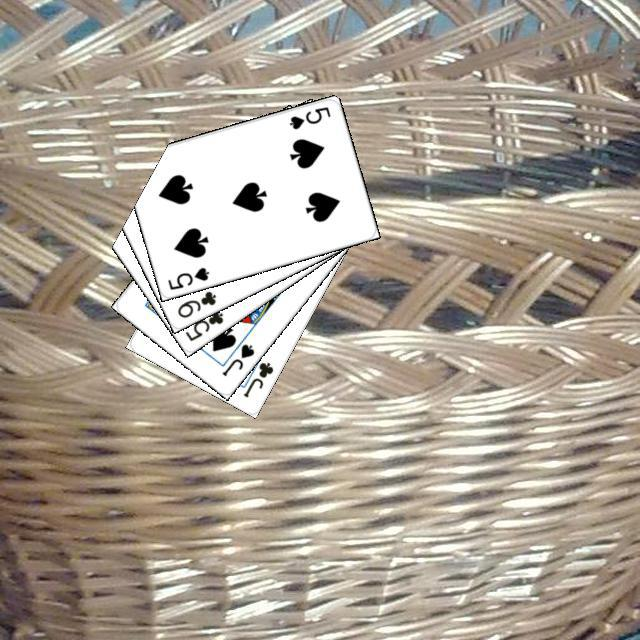5c: (180, 305, 225, 343)
5s: (285, 101, 332, 131), (163, 262, 211, 291)
9c: (172, 286, 218, 320)
Jc: (238, 357, 275, 399)
Js: (217, 339, 256, 378)
